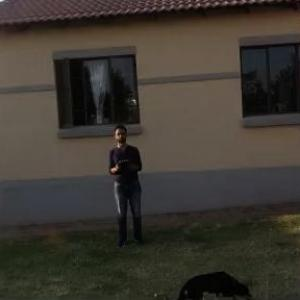follow: (108, 115, 151, 252)
null: (170, 262, 260, 299)
